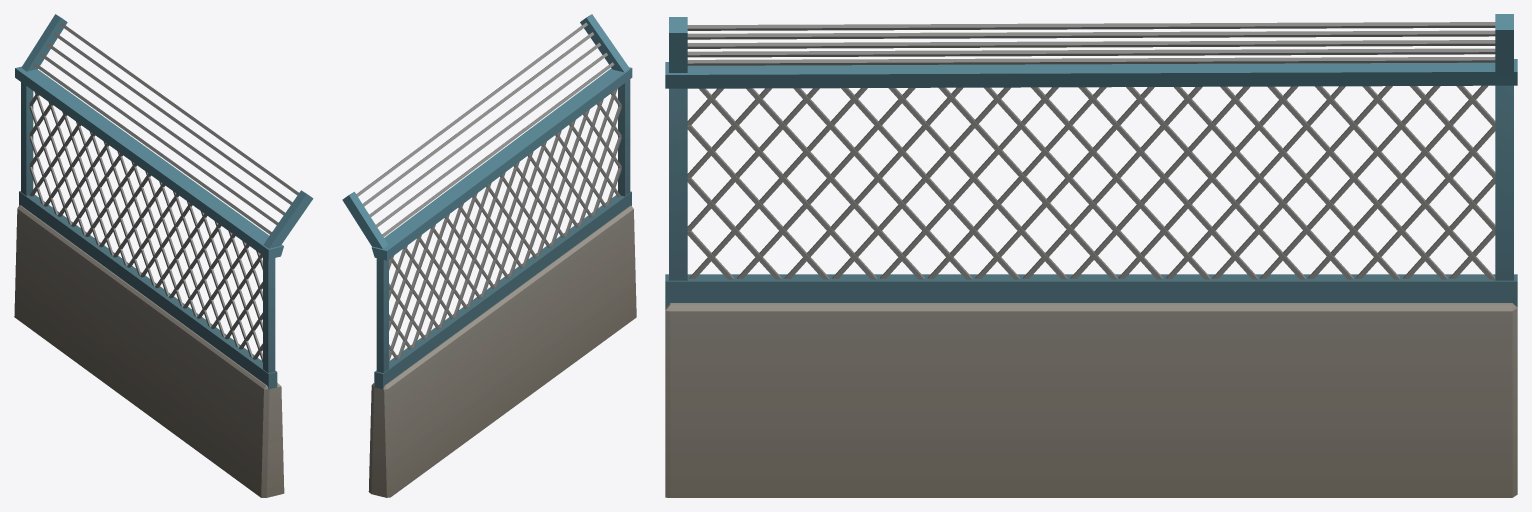
Rendered from Fence_6_1_E.fbx.
3 views of the same model, side by side, from view 1: azimuth 30°, elevation 25°; view 2: azimuth 150°, elevation 25°; view 3: azimuth 270°, elevation 25° (orthographic). The views are drawn at different scales.
Parts seen in each view (by area): view 1: Fence_6_1_E; view 2: Fence_6_1_E; view 3: Fence_6_1_E.
Part boxes in pixels (x1,y1,x2,y2): Fence_6_1_E: (14, 14, 313, 497); Fence_6_1_E: (342, 14, 636, 497); Fence_6_1_E: (665, 14, 1517, 497).
Bounding box in the file's own units: 72.15 × 388 × 600.
